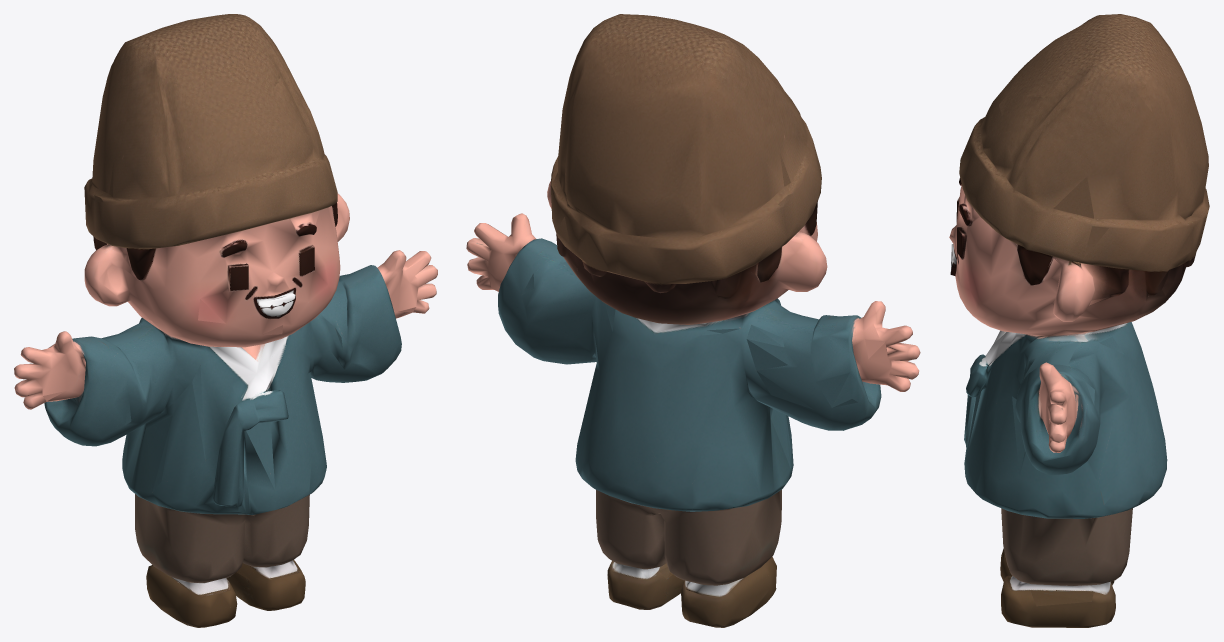
The model's file is uhd-funny.glb.
3 views of the same model, side by side, from view 1: azimuth 30°, elevation 25°; view 2: azimuth 150°, elevation 25°; view 3: azimuth 270°, elevation 25° (orthographic). The views are drawn at different scales.
Parts seen in each view (by area): view 1: mesh_node; view 2: mesh_node; view 3: mesh_node.
Boxes of the visible parts, x1=… form: mesh_node: x1=14, y1=14, x2=437, y2=627; mesh_node: x1=466, y1=14, x2=920, y2=627; mesh_node: x1=949, y1=14, x2=1209, y2=627.
Size of the model in its own units: 0.7915 by 1 by 0.4149.
1 material, 1 textured.
